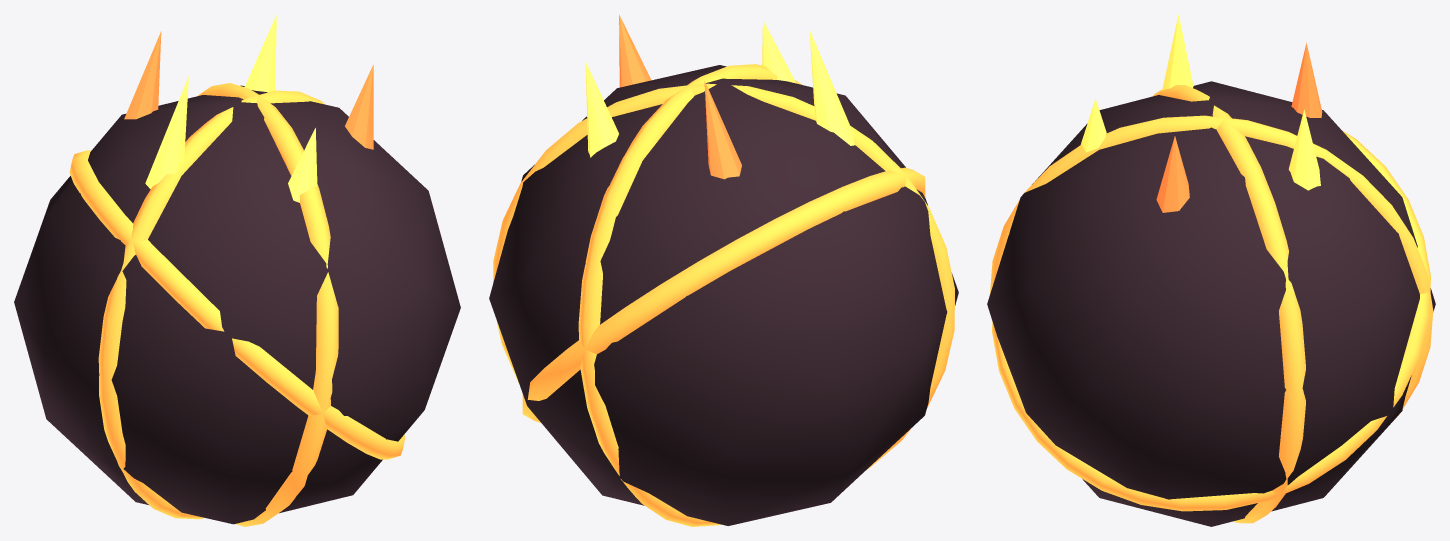
File: meteor.glb
The picture shows the model from 3 angles, left to right: view 1: azimuth 30°, elevation 25°; view 2: azimuth 150°, elevation 25°; view 3: azimuth 270°, elevation 25°; orthographic projection. The views are drawn at different scales.
Parts seen in each view (by area): view 1: ball-meteor; view 2: ball-meteor; view 3: ball-meteor.
Part boxes in pixels (x1,y1,x2,y2): ball-meteor: (14,15,460,526); ball-meteor: (489,14,958,526); ball-meteor: (987,15,1435,526).
Bounding box in the file's own units: 1.86 × 2.11 × 1.86.
